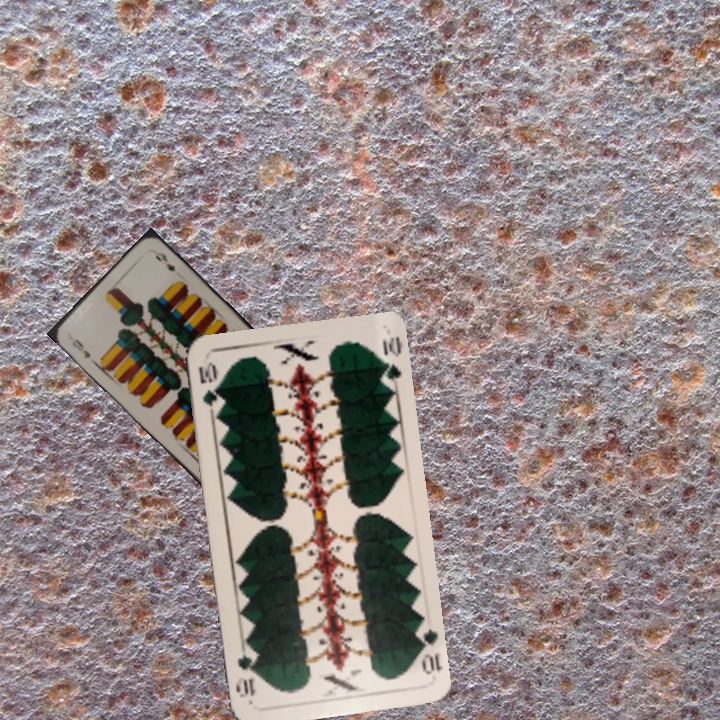E9: (68, 334, 93, 361)
G10: (411, 622, 443, 677), (194, 357, 223, 416)
